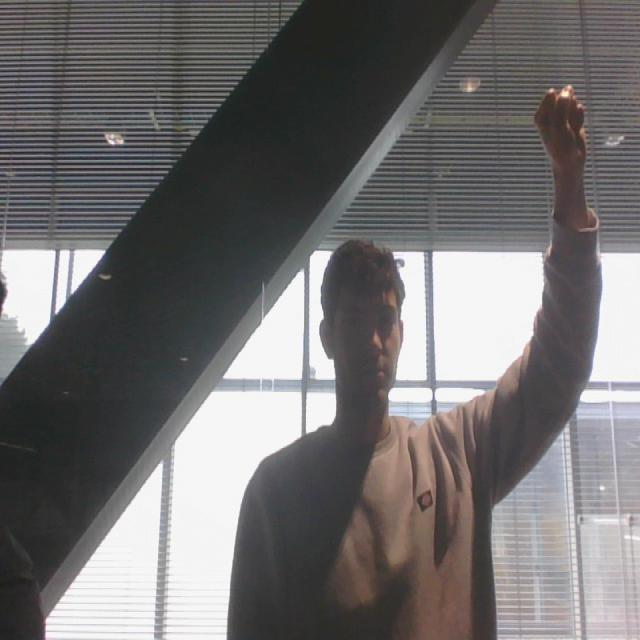stop: (532, 80, 590, 194)
